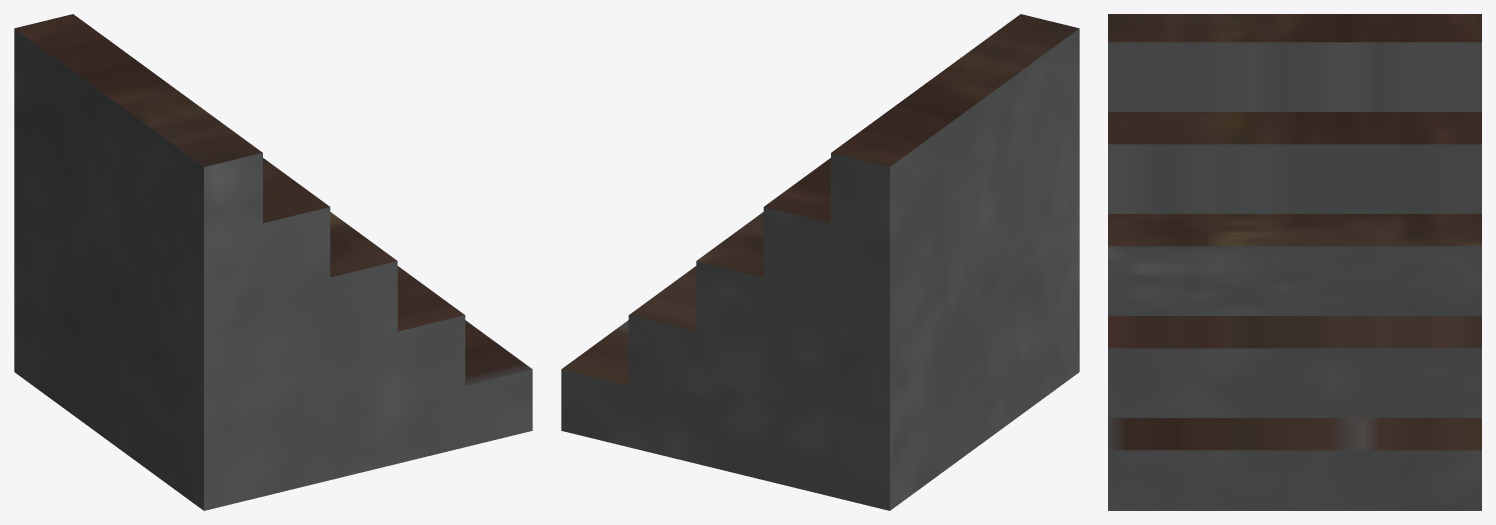
The model's file is stairs _v2.fbx.
3 views of the same model, side by side, from view 1: azimuth 30°, elevation 25°; view 2: azimuth 150°, elevation 25°; view 3: azimuth 270°, elevation 25° (orthographic).
Parts seen in each view (by area): view 1: Cube.002; view 2: Cube.002; view 3: Cube.002.
Part boxes in pixels (x1,y1,x2,y2): Cube.002: (14,14,532,510); Cube.002: (561,14,1079,510); Cube.002: (1108,14,1481,510).
Size of the model in its own units: 200 by 200 by 200.
